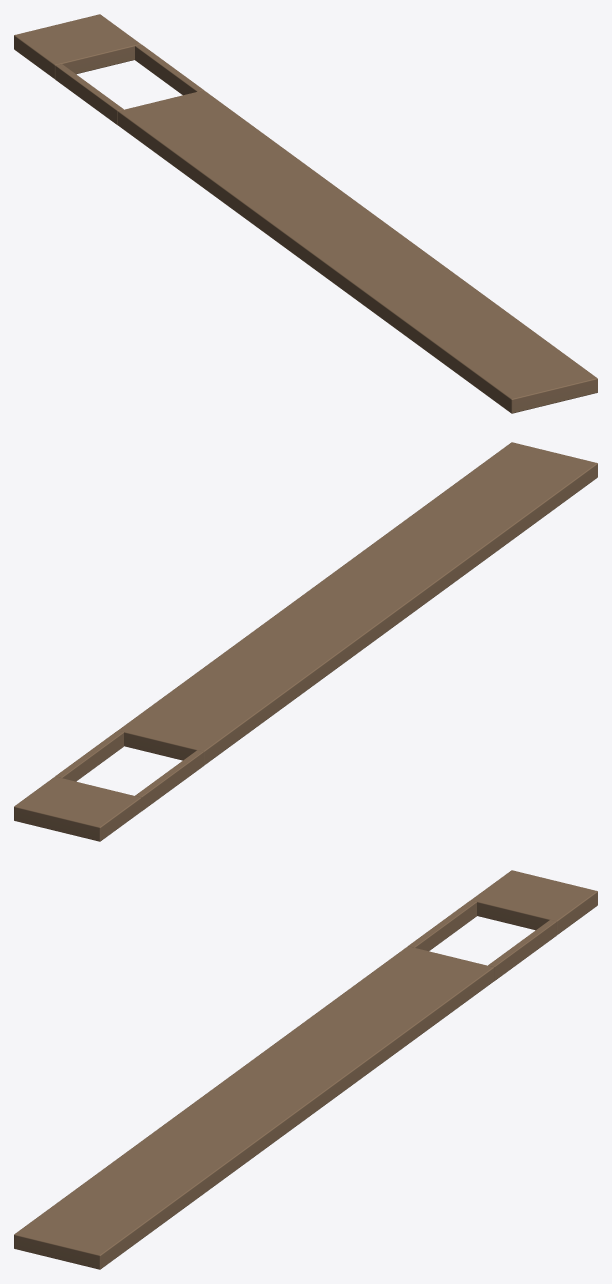
The model's file is service-worktop.glb.
3 renders of one model, top to bottom at view 1: azimuth 30°, elevation 25°; view 2: azimuth 150°, elevation 25°; view 3: azimuth 330°, elevation 25°, orthographic.
Visible parts, largest first — view 1: Joinery | oiled walnut; view 2: Joinery | oiled walnut; view 3: Joinery | oiled walnut.
Boxes of the visible parts, x1,y1,x2,y2 form: Joinery | oiled walnut: [14, 14, 597, 413]; Joinery | oiled walnut: [14, 442, 597, 841]; Joinery | oiled walnut: [14, 870, 597, 1269].
Size of the model in its own units: 0.4 by 0.065 by 3.98.
